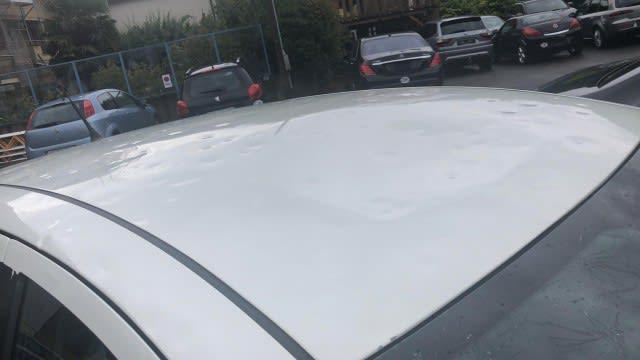roof-dent: (264, 99, 623, 348), (0, 136, 283, 344)
